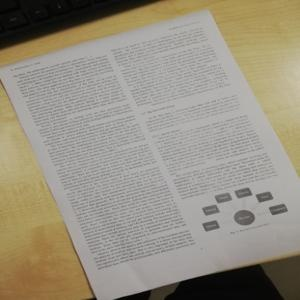diagram: (199, 184, 288, 235)
text: (13, 53, 195, 272), (142, 93, 277, 200), (109, 22, 231, 102)
